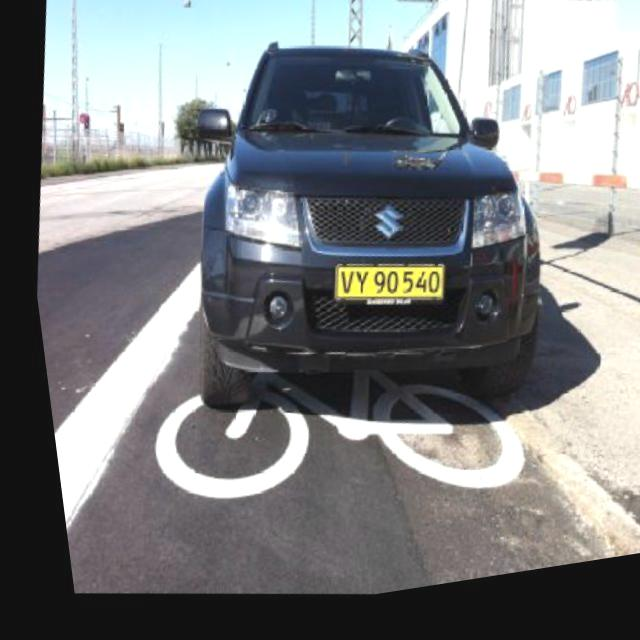license_plate: (318, 258, 442, 332)
